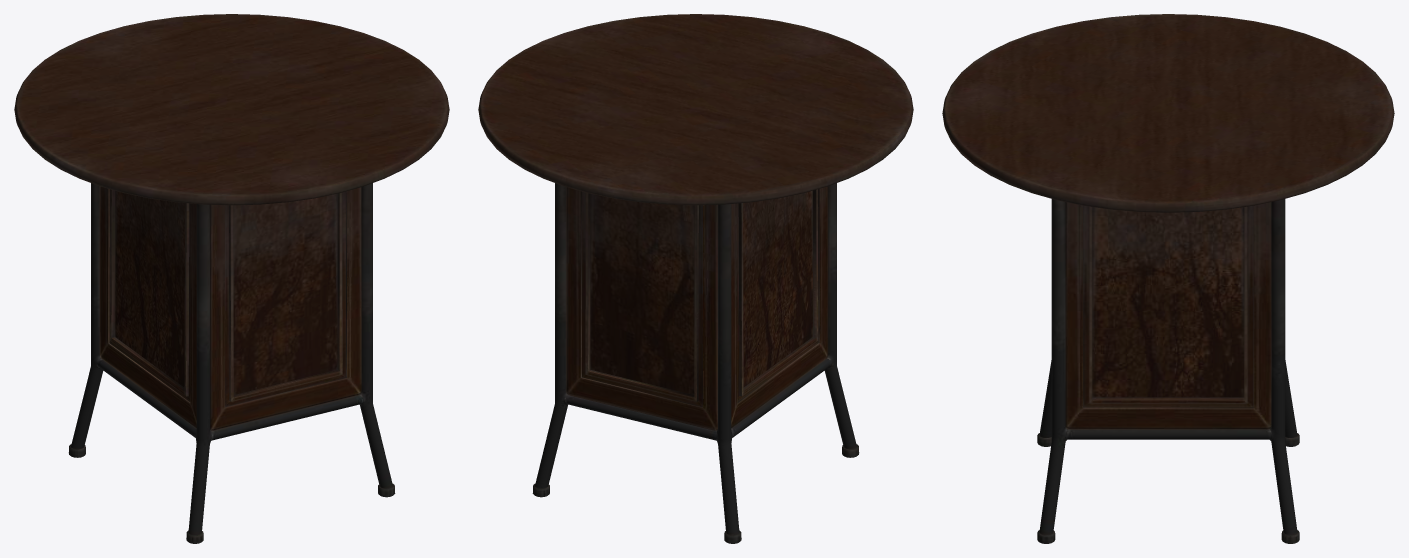
Rendered from round-table.glb.
3 renders of one model, left to right at view 1: azimuth 30°, elevation 25°; view 2: azimuth 150°, elevation 25°; view 3: azimuth 270°, elevation 25°, orthographic. The views are drawn at different scales.
Parts seen in each view (by area): view 1: round_wooden_table_02; view 2: round_wooden_table_02; view 3: round_wooden_table_02.
Boxes of the visible parts, x1,y1,x2,y2 form: round_wooden_table_02: (14,14,449,543); round_wooden_table_02: (478,14,913,543); round_wooden_table_02: (942,14,1394,543).
Size of the model in its own units: 0.7962 by 0.746 by 0.7962.
1 material, 1 textured.
